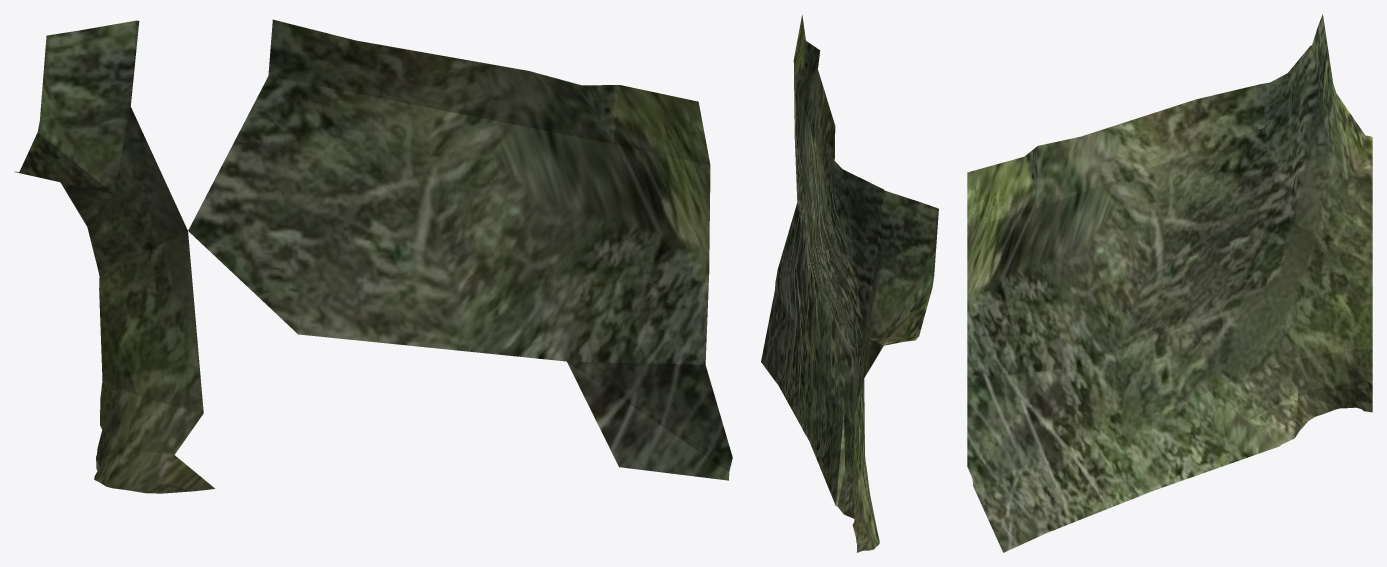
3 renders of one model, left to right at view 1: azimuth 30°, elevation 25°; view 2: azimuth 150°, elevation 25°; view 3: azimuth 270°, elevation 25°, orthographic. The views are drawn at different scales.
Size of the model in its own units: 2.95 by 2.95 by 2.95.
3 materials, 3 textured.
